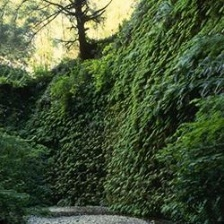neutral: (2, 1, 224, 221)
